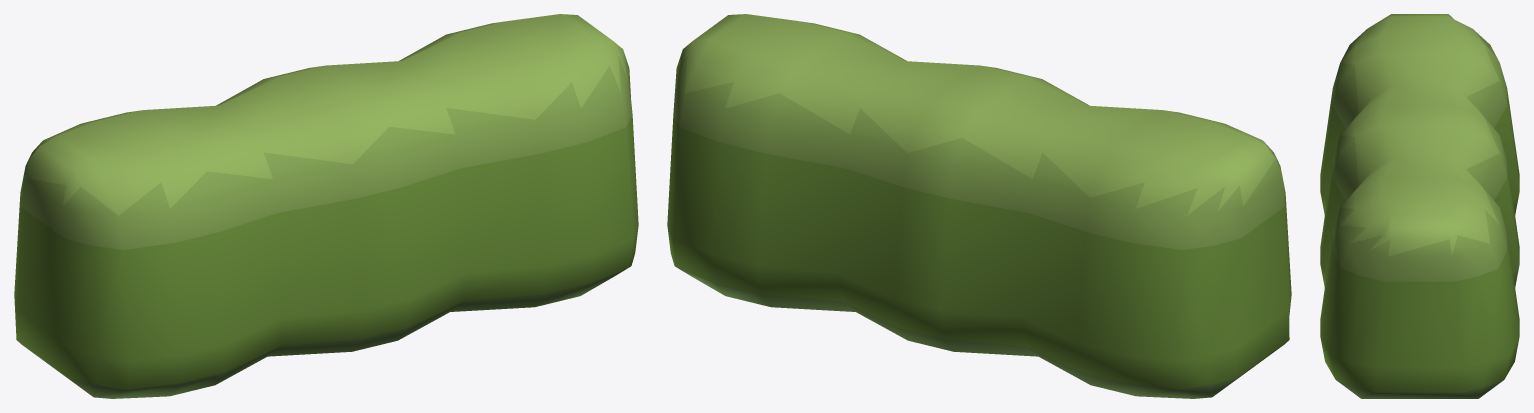
Rendered from itch_tiny_pretty_park_hedge_straight_long.glb.
The picture shows the model from 3 angles, left to right: view 1: azimuth 30°, elevation 25°; view 2: azimuth 150°, elevation 25°; view 3: azimuth 270°, elevation 25°; orthographic projection. The views are drawn at different scales.
Visible parts, largest first — view 1: hedge_straight_long; view 2: hedge_straight_long; view 3: hedge_straight_long.
Part boxes in pixels (box(x1,y1,x2,y2)): hedge_straight_long: box(14, 14, 638, 398); hedge_straight_long: box(667, 14, 1291, 398); hedge_straight_long: box(1320, 14, 1519, 398).
Bounding box in the file's own units: 0.96 × 0.36 × 0.36.
